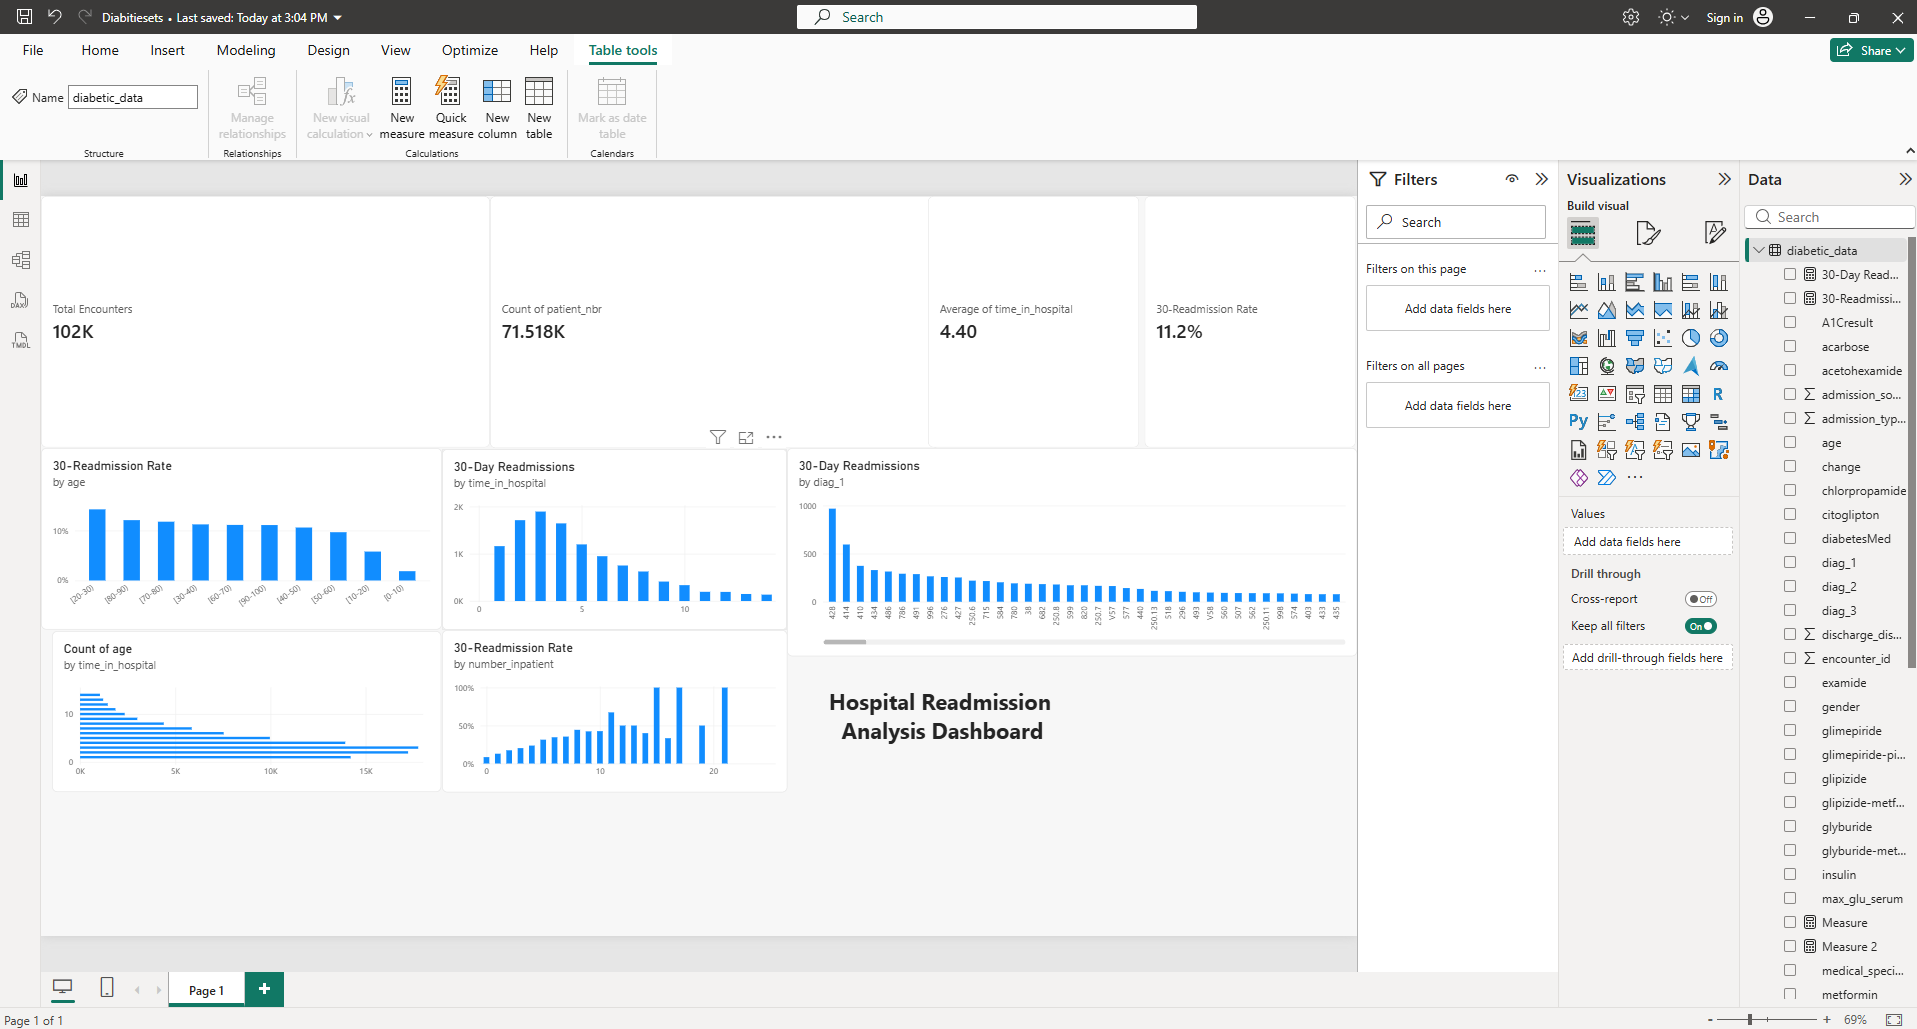

The page's visual inventory and layout, read from the dashboard file:
{"tool":"powerbi","page":{"name":"Page 1","canvas":[1920,1080],"ordinal":0},"visuals":[{"type":"cardVisual","fields":{"Data":["diabetic_data.Total Encounters"]},"box":[0,0,655.1,367.7],"z":0},{"type":"cardVisual","fields":{"Data":["Count(diabetic_data.patient_nbr)"]},"box":[655.1,0,655,368],"z":1000},{"type":"cardVisual","fields":{"Data":["Avg(diabetic_data.time_in_hospital)","diabetic_data.30-Day Readmission Rate"]},"box":[1294.1,0,625.9,367.7],"z":2000},{"type":"clusteredColumnChart","fields":{"Category":["diabetic_data.age"],"Y":["diabetic_data.30 Readmission Rate"]},"box":[0,367.2,584.5,265.3],"z":3000},{"type":"clusteredColumnChart","fields":{"Category":["diabetic_data.time_in_hospital"],"Y":["diabetic_data.30-Day Readmissions"]},"box":[584.5,368.7,503.6,263.8],"z":4000},{"type":"clusteredBarChart","fields":{"Category":["diabetic_data.time_in_hospital"],"Y":["CountNonNull(diabetic_data.age)"]},"box":[16.5,634,568.1,235.3],"z":5000},{"type":"clusteredColumnChart","fields":{"Category":["diabetic_data.number_inpatient"],"Y":["diabetic_data.30-Readmission Rate"]},"box":[584.5,632.5,503.6,236.8],"z":6000},{"type":"clusteredColumnChart","fields":{"Category":["diabetic_data.diag_1"],"Y":["diabetic_data.30-Day Readmissions"]},"box":[1088.1,367.2,831.9,304.3],"z":7000},{"type":"textbox","box":[1089,633,446,237],"z":8000}]}

Visuals, with their boxes on the page's 1920x1080 design canvas (x1, y1, x2, y2). These are canvas units, not pixel positions in the 1917x1029 screenshot, which may show the page scaled, cropped or inside an application window:
cardVisual - diabetic_data.Total Encounters: x1=0, y1=0, x2=655, y2=368
cardVisual - Count(diabetic_data.patient_nbr): x1=655, y1=0, x2=1310, y2=368
cardVisual - Avg(diabetic_data.time_in_hospital) x diabetic_data.30-Day Readmission Rate: x1=1294, y1=0, x2=1920, y2=368
clusteredColumnChart - diabetic_data.age x diabetic_data.30 Readmission Rate: x1=0, y1=367, x2=584, y2=632
clusteredColumnChart - diabetic_data.time_in_hospital x diabetic_data.30-Day Readmissions: x1=584, y1=369, x2=1088, y2=632
clusteredBarChart - diabetic_data.time_in_hospital x CountNonNull(diabetic_data.age): x1=16, y1=634, x2=585, y2=869
clusteredColumnChart - diabetic_data.number_inpatient x diabetic_data.30-Readmission Rate: x1=584, y1=632, x2=1088, y2=869
clusteredColumnChart - diabetic_data.diag_1 x diabetic_data.30-Day Readmissions: x1=1088, y1=367, x2=1920, y2=672
textbox: x1=1089, y1=633, x2=1535, y2=870
